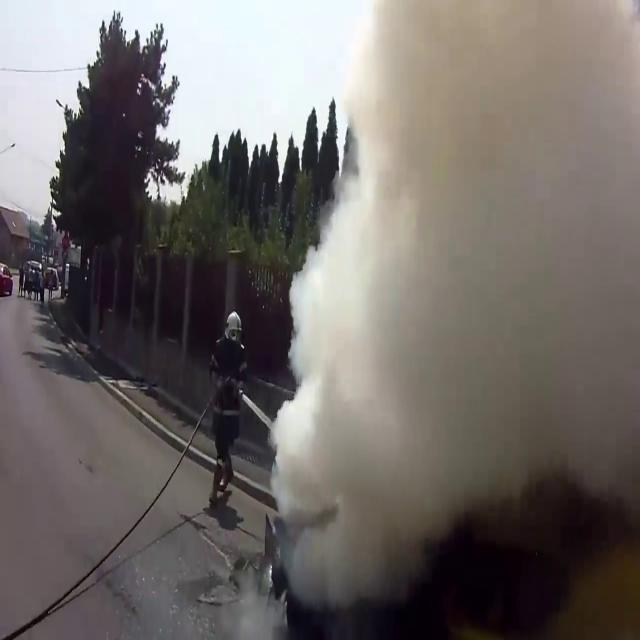Smoke: (239, 0, 640, 610)
